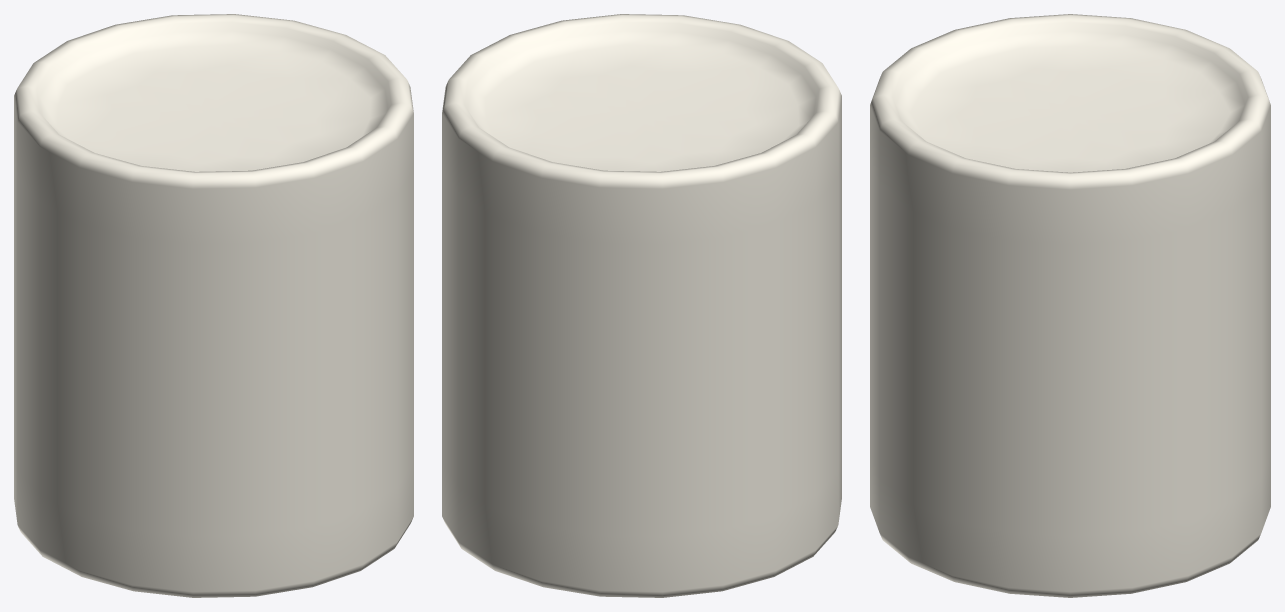
Rendered from Renai_WallLight.fbx.
3 views of the same model, side by side, from view 1: azimuth 30°, elevation 25°; view 2: azimuth 150°, elevation 25°; view 3: azimuth 270°, elevation 25° (orthographic).
Visible parts, largest first — view 1: WallLight; view 2: WallLight; view 3: WallLight.
Boxes of the visible parts, <box> form: WallLight: <box>14,14,413,597</box>; WallLight: <box>442,14,841,597</box>; WallLight: <box>870,14,1270,597</box>.
Size of the model in its own units: 1.9 by 2.21 by 1.9.
Materials: 1 (1 with a texture image).
